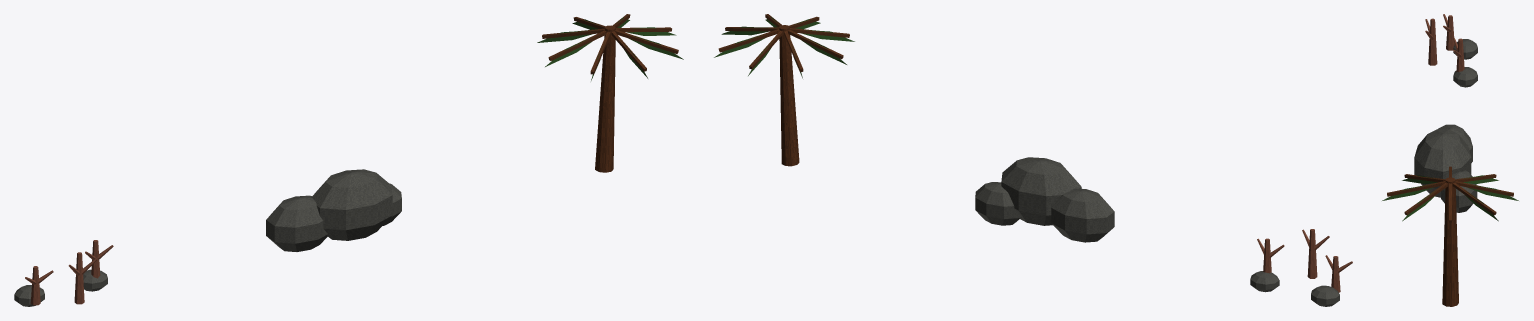
The model's file is KIT_moran_outer_reef.gltf.
The picture shows the model from 3 angles, left to right: view 1: azimuth 30°, elevation 25°; view 2: azimuth 150°, elevation 25°; view 3: azimuth 270°, elevation 25°; orthographic projection. The views are drawn at different scales.
Visible parts, largest first — view 1: 02_rock, 03_palm, 01_reef; view 2: 02_rock, 03_palm, 01_reef; view 3: 03_palm, 02_rock, 01_reef.
Boxes of the visible parts, left/top/right/bottom form: 02_rock: left=266, top=169, right=401, bottom=251; 03_palm: left=537, top=14, right=683, bottom=172; 01_reef: left=14, top=240, right=113, bottom=306; 02_rock: left=975, top=157, right=1114, bottom=242; 03_palm: left=714, top=14, right=854, bottom=166; 01_reef: left=1250, top=229, right=1352, bottom=306; 03_palm: left=1382, top=166, right=1518, bottom=306; 02_rock: left=1414, top=124, right=1477, bottom=212; 01_reef: left=1425, top=14, right=1477, bottom=87.
Size of the model in its own units: 13.49 by 2.88 by 2.74.
Materials: 5 (5 with a texture image).
